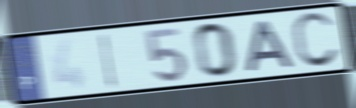0: (191, 21, 240, 80)
4: (50, 36, 89, 93)
5: (142, 25, 191, 84)
A: (244, 18, 298, 74)
C: (289, 10, 343, 71)
I: (98, 31, 118, 91)
